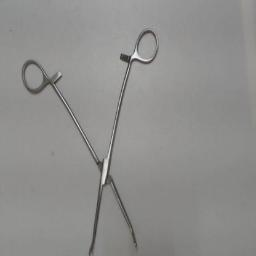Lahey Forceps: (14, 23, 162, 255)
